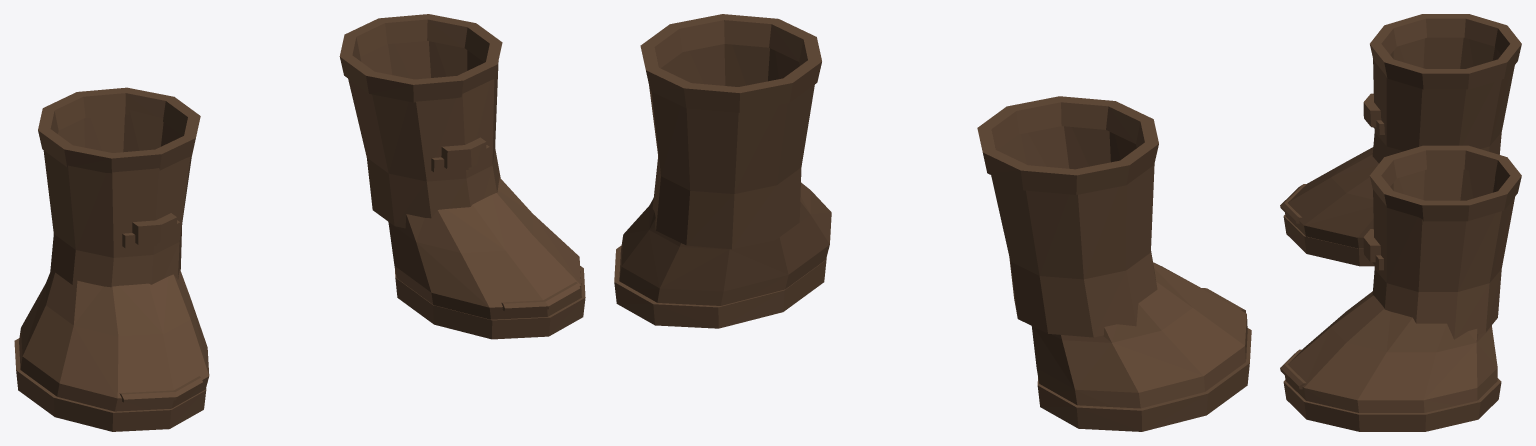
The model's file is leather_feet-male-thickHide.glb.
3 renders of one model, left to right at view 1: azimuth 30°, elevation 25°; view 2: azimuth 150°, elevation 25°; view 3: azimuth 270°, elevation 25°, orthographic. The views are drawn at different scales.
Parts seen in each view (by area): view 1: leather boot foot -1, leather boot upper 1, leather boot upper -1, leather boot foot 1, Turned boot cuff 1, Turned boot cuff -1, Boot sole -1, Boot sole 1, Heavy hide binding leather boot upper 1, Heavy hide binding leather boot upper -1, Boot toe welt -1, Boot toe welt 1; view 2: leather boot upper -1, leather boot upper 1, leather boot foot -1, leather boot foot 1, Turned boot cuff 1, Turned boot cuff -1, Boot sole -1, Boot sole 1; view 3: leather boot foot 1, leather boot upper 1, leather boot upper -1, Turned boot cuff -1, Turned boot cuff 1, leather boot foot -1, Boot sole 1, Boot sole -1, Heavy hide binding leather boot upper -1, Heavy hide binding leather boot upper 1, Boot toe welt 1, Boot toe welt -1.
Boxes of the visible parts, bbox=[...] form: leather boot foot -1: bbox=[19, 269, 209, 411]; leather boot upper 1: bbox=[348, 41, 500, 228]; leather boot upper -1: bbox=[43, 110, 191, 287]; leather boot foot 1: bbox=[388, 177, 581, 319]; Turned boot cuff 1: bbox=[339, 14, 502, 102]; Turned boot cuff -1: bbox=[38, 87, 200, 173]; Boot sole -1: bbox=[14, 338, 206, 431]; Boot sole 1: bbox=[395, 266, 585, 339]; Heavy hide binding leather boot upper 1: bbox=[441, 137, 486, 169]; Heavy hide binding leather boot upper -1: bbox=[132, 213, 176, 244]; Boot toe welt -1: bbox=[119, 376, 202, 402]; Boot toe welt 1: bbox=[501, 282, 580, 311]; leather boot upper -1: bbox=[991, 126, 1157, 337]; leather boot upper 1: bbox=[649, 44, 814, 249]; leather boot foot -1: bbox=[1031, 262, 1247, 408]; leather boot foot 1: bbox=[619, 182, 831, 305]; Turned boot cuff 1: bbox=[640, 14, 821, 112]; Turned boot cuff -1: bbox=[977, 96, 1158, 194]; Boot sole -1: bbox=[1037, 328, 1251, 431]; Boot sole 1: bbox=[614, 245, 826, 328]; leather boot foot 1: bbox=[1285, 291, 1497, 412]; leather boot upper 1: bbox=[1372, 169, 1514, 339]; leather boot upper -1: bbox=[1372, 37, 1514, 163]; Turned boot cuff -1: bbox=[1370, 14, 1521, 89]; Turned boot cuff 1: bbox=[1369, 145, 1521, 221]; leather boot foot -1: bbox=[1285, 147, 1378, 248]; Boot sole 1: bbox=[1283, 378, 1501, 431]; Boot sole -1: bbox=[1283, 214, 1374, 266]; Heavy hide binding leather boot upper -1: bbox=[1363, 93, 1381, 127]; Heavy hide binding leather boot upper 1: bbox=[1363, 229, 1380, 262]; Boot toe welt 1: bbox=[1280, 349, 1306, 389]; Boot toe welt -1: bbox=[1280, 184, 1306, 223].
Bounding box in the file's own units: 2.88 × 1.2 × 1.27.
